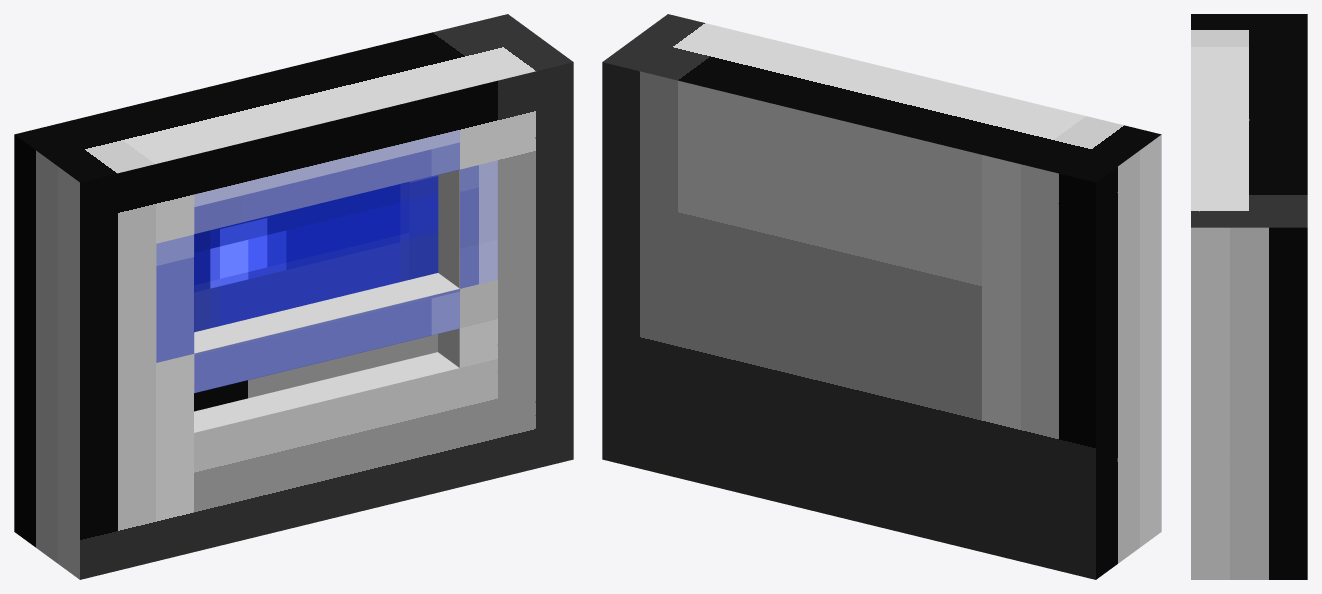
The model's file is keycard_auth_wall_confirmation.glb.
The picture shows the model from 3 angles, left to right: view 1: azimuth 30°, elevation 25°; view 2: azimuth 150°, elevation 25°; view 3: azimuth 270°, elevation 25°; orthographic projection. The views are drawn at different scales.
Visible parts, largest first — view 1: Continuous_Reader_Housing, Confirmation_Overlay; view 2: Continuous_Reader_Housing; view 3: Continuous_Reader_Housing.
Part boxes in pixels (<box>): Continuous_Reader_Housing: <box>14,14,573,579</box>; Confirmation_Overlay: <box>156,130,497,392</box>; Continuous_Reader_Housing: <box>602,14,1161,579</box>; Continuous_Reader_Housing: <box>1191,14,1307,579</box>.
Size of the model in its own units: 0.3656 by 0.2812 by 0.0848.
Materials: 2 (2 with a texture image).
